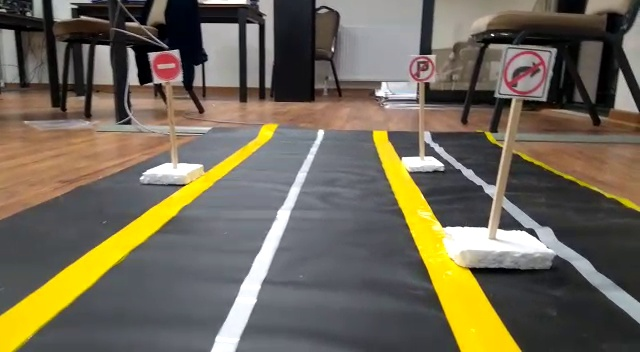girisi_olmayan_yol: (149, 50, 183, 81)
park_yapilmaz: (408, 52, 435, 83)
saga_donulmez: (499, 47, 552, 97)
